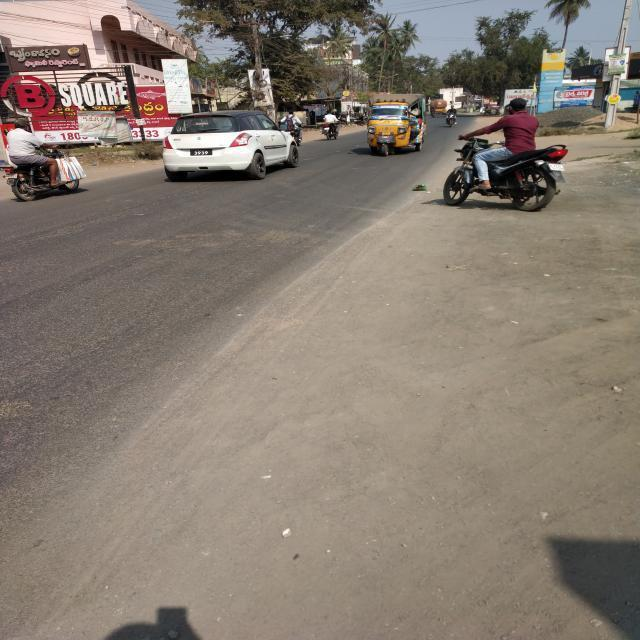auto_front: (358, 86, 431, 168)
car_back: (157, 103, 310, 186)
two_wheeler_back: (438, 123, 574, 213), (0, 140, 90, 204), (318, 118, 341, 144)
